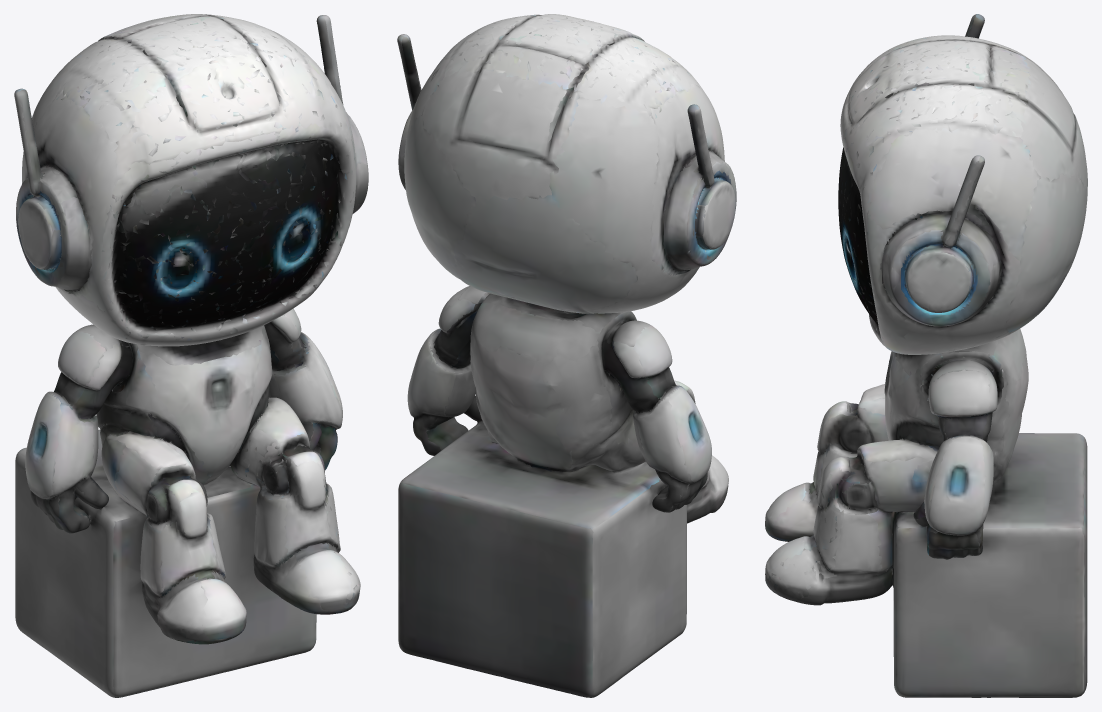
Rendered from robot_assis.glb.
3 views of the same model, side by side, from view 1: azimuth 30°, elevation 25°; view 2: azimuth 150°, elevation 25°; view 3: azimuth 270°, elevation 25° (orthographic). The views are drawn at different scales.
Parts seen in each view (by area): view 1: geometry_0; view 2: geometry_0; view 3: geometry_0.
Part boxes in pixels (x1=…): geometry_0: x1=14, y1=14, x2=368, y2=697; geometry_0: x1=397, y1=14, x2=736, y2=697; geometry_0: x1=765, y1=14, x2=1087, y2=697.
Size of the model in its own units: 0.5334 by 0.9999 by 0.4904.
Materials: 1 (1 with a texture image).
